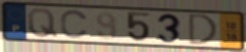3: (155, 12, 186, 45)
5: (125, 11, 153, 43)
9: (94, 10, 119, 41)
C: (60, 8, 90, 40)
D: (187, 12, 220, 46)
Q: (26, 7, 60, 39)
